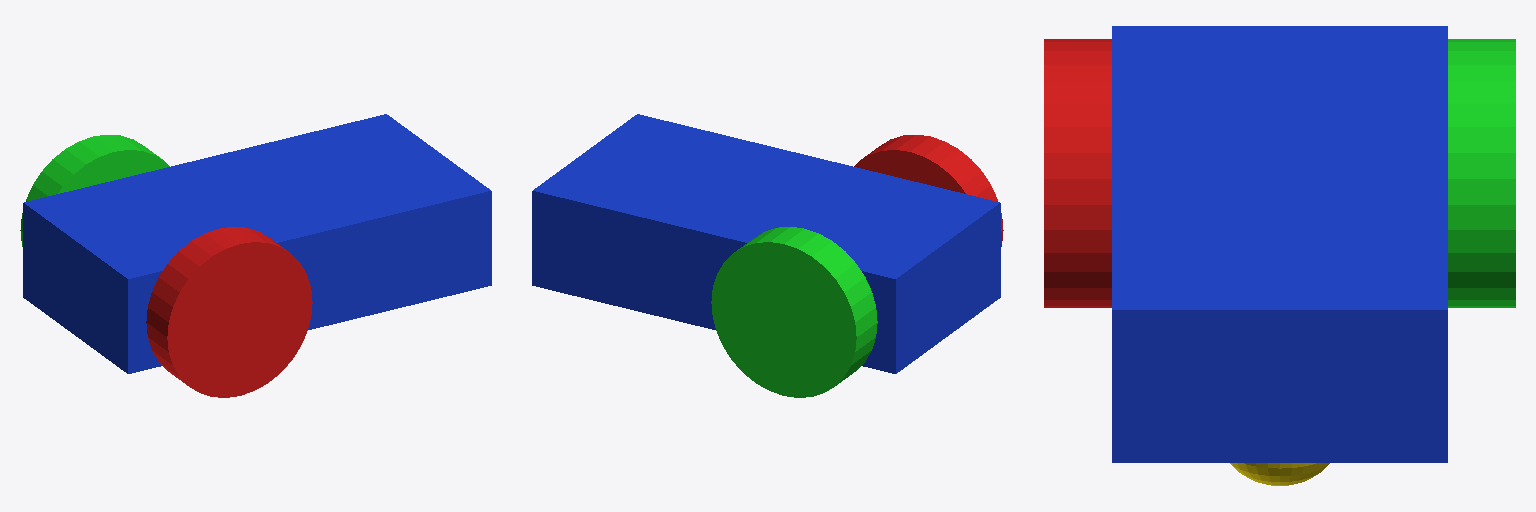
URDF robot description (tp3_robot):
<?xml version="1.0"?>
<robot name="tp3_robot">
  <!-- ROS coordinate convention: +X forward, +Y left, +Z up. -->
  <material name="blue"><color rgba="0.15 0.30 0.85 1"/></material>
  <material name="red"><color rgba="0.85 0.15 0.15 1"/></material>
  <material name="green"><color rgba="0.15 0.85 0.20 1"/></material>
  <material name="yellow"><color rgba="0.95 0.85 0.10 1"/></material>

  <!-- 2m x 1m body, centre is base_link. -->
  <link name="base_link">
    <visual><geometry><box size="2.0 1.0 0.5"/></geometry><material name="blue"/></visual>
    <collision><geometry><box size="2.0 1.0 0.5"/></geometry></collision>
    <inertial>
      <mass value="1.0"/>
      <inertia ixx="0.104166667" ixy="0" ixz="0" iyy="0.354166667" iyz="0" izz="0.416666667"/>
    </inertial>
  </link>

  <link name="left_wheel_link">
    <visual><geometry><cylinder radius="0.4" length="0.2"/></geometry><material name="green"/></visual>
    <collision><geometry><cylinder radius="0.4" length="0.2"/></geometry></collision>
    <inertial><mass value="0.5"/>
      <inertia ixx="0.021666667" ixy="0" ixz="0" iyy="0.021666667" iyz="0" izz="0.04"/>
    </inertial>
  </link>
  <joint name="base_to_left_wheel_joint" type="continuous">
    <parent link="base_link"/><child link="left_wheel_link"/>
    <origin xyz="-0.5 0.6 0" rpy="-1.57079632679 0 0"/>
    <axis xyz="0 0 1"/>
  </joint>

  <link name="right_wheel_link">
    <visual><geometry><cylinder radius="0.4" length="0.2"/></geometry><material name="red"/></visual>
    <collision><geometry><cylinder radius="0.4" length="0.2"/></geometry></collision>
    <inertial><mass value="0.5"/>
      <inertia ixx="0.021666667" ixy="0" ixz="0" iyy="0.021666667" iyz="0" izz="0.04"/>
    </inertial>
  </link>
  <joint name="base_to_right_wheel_joint" type="continuous">
    <parent link="base_link"/><child link="right_wheel_link"/>
    <origin xyz="-0.5 -0.6 0" rpy="-1.57079632679 0 0"/>
    <axis xyz="0 0 1"/>
  </joint>

  <link name="caster_wheel_link">
    <visual><geometry><sphere radius="0.2"/></geometry><material name="yellow"/></visual>
    <collision><geometry><sphere radius="0.2"/></geometry></collision>
    <inertial><mass value="0.05"/>
      <inertia ixx="0.0008" ixy="0" ixz="0" iyy="0.0008" iyz="0" izz="0.0008"/>
    </inertial>
  </link>
  <joint name="base_to_caster_joint" type="fixed">
    <parent link="base_link"/><child link="caster_wheel_link"/>
    <origin xyz="0.8 0 -0.2" rpy="0 0 0"/>
  </joint>

  <!-- Make the fixed spherical caster slide with very low friction. -->
  <gazebo reference="caster_wheel_link">
    <mu1>0.001</mu1><mu2>0.001</mu2>
  </gazebo>

  <!-- Gazebo differential drive. -->
  <gazebo>
    <plugin filename="gz-sim-diff-drive-system" name="gz::sim::systems::DiffDrive">
      <left_joint>base_to_left_wheel_joint</left_joint>
      <right_joint>base_to_right_wheel_joint</right_joint>
      <wheel_separation>1.2</wheel_separation>
      <wheel_radius>0.4</wheel_radius>
      <topic>/cmd_vel</topic>
      <odom_topic>/model/tp3_robot/odometry</odom_topic>
      <odom_publish_frequency>20</odom_publish_frequency>
    </plugin>
  </gazebo>

  <!-- LiDAR about 0.5m above base_link, safely above robot body. -->
  <gazebo reference="base_link">
    <sensor name="lidar" type="gpu_lidar">
      <always_on>true</always_on>
      <update_rate>10</update_rate>
      <pose>0 0 0.50 0 0 0</pose>
      <gz_frame_id>base_link</gz_frame_id>
      <topic>/lidar</topic>
      <ray>
        <scan>
          <horizontal>
            <samples>640</samples><resolution>1</resolution>
            <min_angle>-3.14159265359</min_angle><max_angle>3.14159265359</max_angle>
          </horizontal>
        </scan>
        <range><min>0.08</min><max>10.0</max><resolution>0.01</resolution></range>
      </ray>
    </sensor>
  </gazebo>
</robot>

--- What the picture shows (computed from the rendered views, not written in the file) ---
Views: 3 orthographic renders of the robot side by side, from view 1: azimuth 30°, elevation 25°; view 2: azimuth 150°, elevation 25°; view 3: azimuth 270°, elevation 25°.
Robot: tp3_robot — 4 links, 3 joints (2 continuous, 1 fixed); root link base_link; default pose: all joints at 0.
Visible links, largest first — view 1: base_link, right_wheel_link, left_wheel_link; view 2: base_link, left_wheel_link, right_wheel_link; view 3: base_link, left_wheel_link, right_wheel_link, caster_wheel_link.
Link boxes in pixels (box(x1,y1,x2,y2)): base_link: box(23, 114, 491, 373); right_wheel_link: box(146, 227, 312, 397); left_wheel_link: box(20, 135, 169, 246); base_link: box(532, 114, 1000, 373); left_wheel_link: box(711, 227, 877, 397); right_wheel_link: box(854, 135, 1003, 246); base_link: box(1112, 26, 1447, 462); left_wheel_link: box(1448, 39, 1515, 307); right_wheel_link: box(1044, 39, 1111, 307); caster_wheel_link: box(1230, 463, 1329, 485).
Size in the robot's own frame: 2 by 1.4 by 0.8 metres.
Geometry: primitives only (box / cylinder / sphere), no mesh files.
